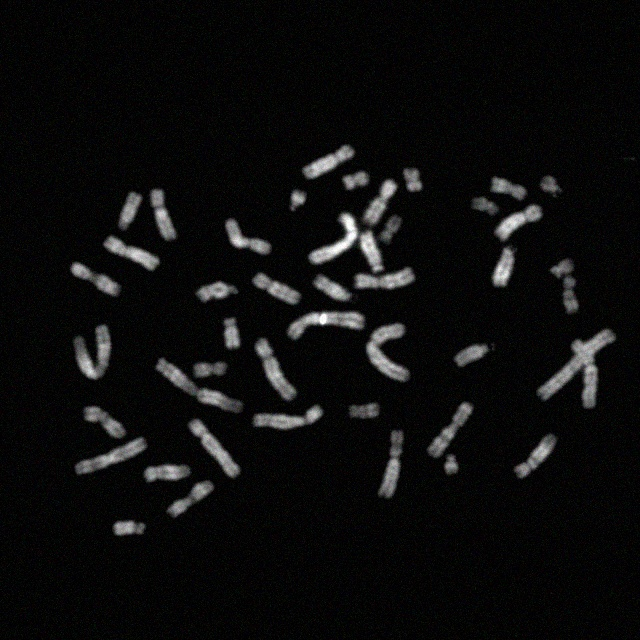chromosome: (540, 329, 614, 399), (153, 361, 245, 414), (187, 418, 238, 478), (74, 436, 146, 476), (366, 323, 412, 381), (309, 213, 359, 263), (256, 338, 296, 400), (428, 402, 472, 456), (286, 309, 362, 339), (74, 324, 113, 380), (571, 336, 597, 414), (103, 238, 159, 272), (376, 430, 404, 498), (252, 405, 324, 431), (223, 219, 272, 255), (515, 434, 557, 476), (496, 204, 542, 242), (302, 144, 353, 178), (70, 262, 120, 296), (167, 480, 213, 516), (251, 274, 301, 306), (355, 267, 417, 291), (365, 178, 397, 224), (85, 406, 125, 440), (149, 189, 176, 239), (313, 275, 352, 303), (359, 232, 383, 274), (197, 280, 239, 304), (146, 460, 190, 482), (490, 176, 526, 202), (117, 193, 141, 231), (453, 343, 489, 367), (494, 248, 514, 288), (562, 276, 582, 314), (192, 360, 228, 380), (348, 400, 379, 422), (114, 518, 146, 538), (400, 168, 426, 192), (223, 317, 242, 348), (381, 216, 402, 242), (289, 188, 307, 215), (538, 176, 560, 198), (552, 256, 574, 278), (344, 171, 366, 191), (441, 456, 459, 476), (474, 197, 496, 213)
